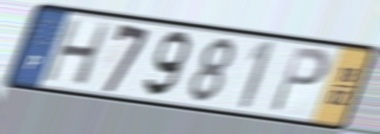1: (236, 38, 277, 112)
7: (101, 20, 152, 95)
8: (186, 35, 239, 105)
9: (140, 31, 195, 99)
H: (41, 16, 114, 88)
P: (267, 44, 333, 116)
